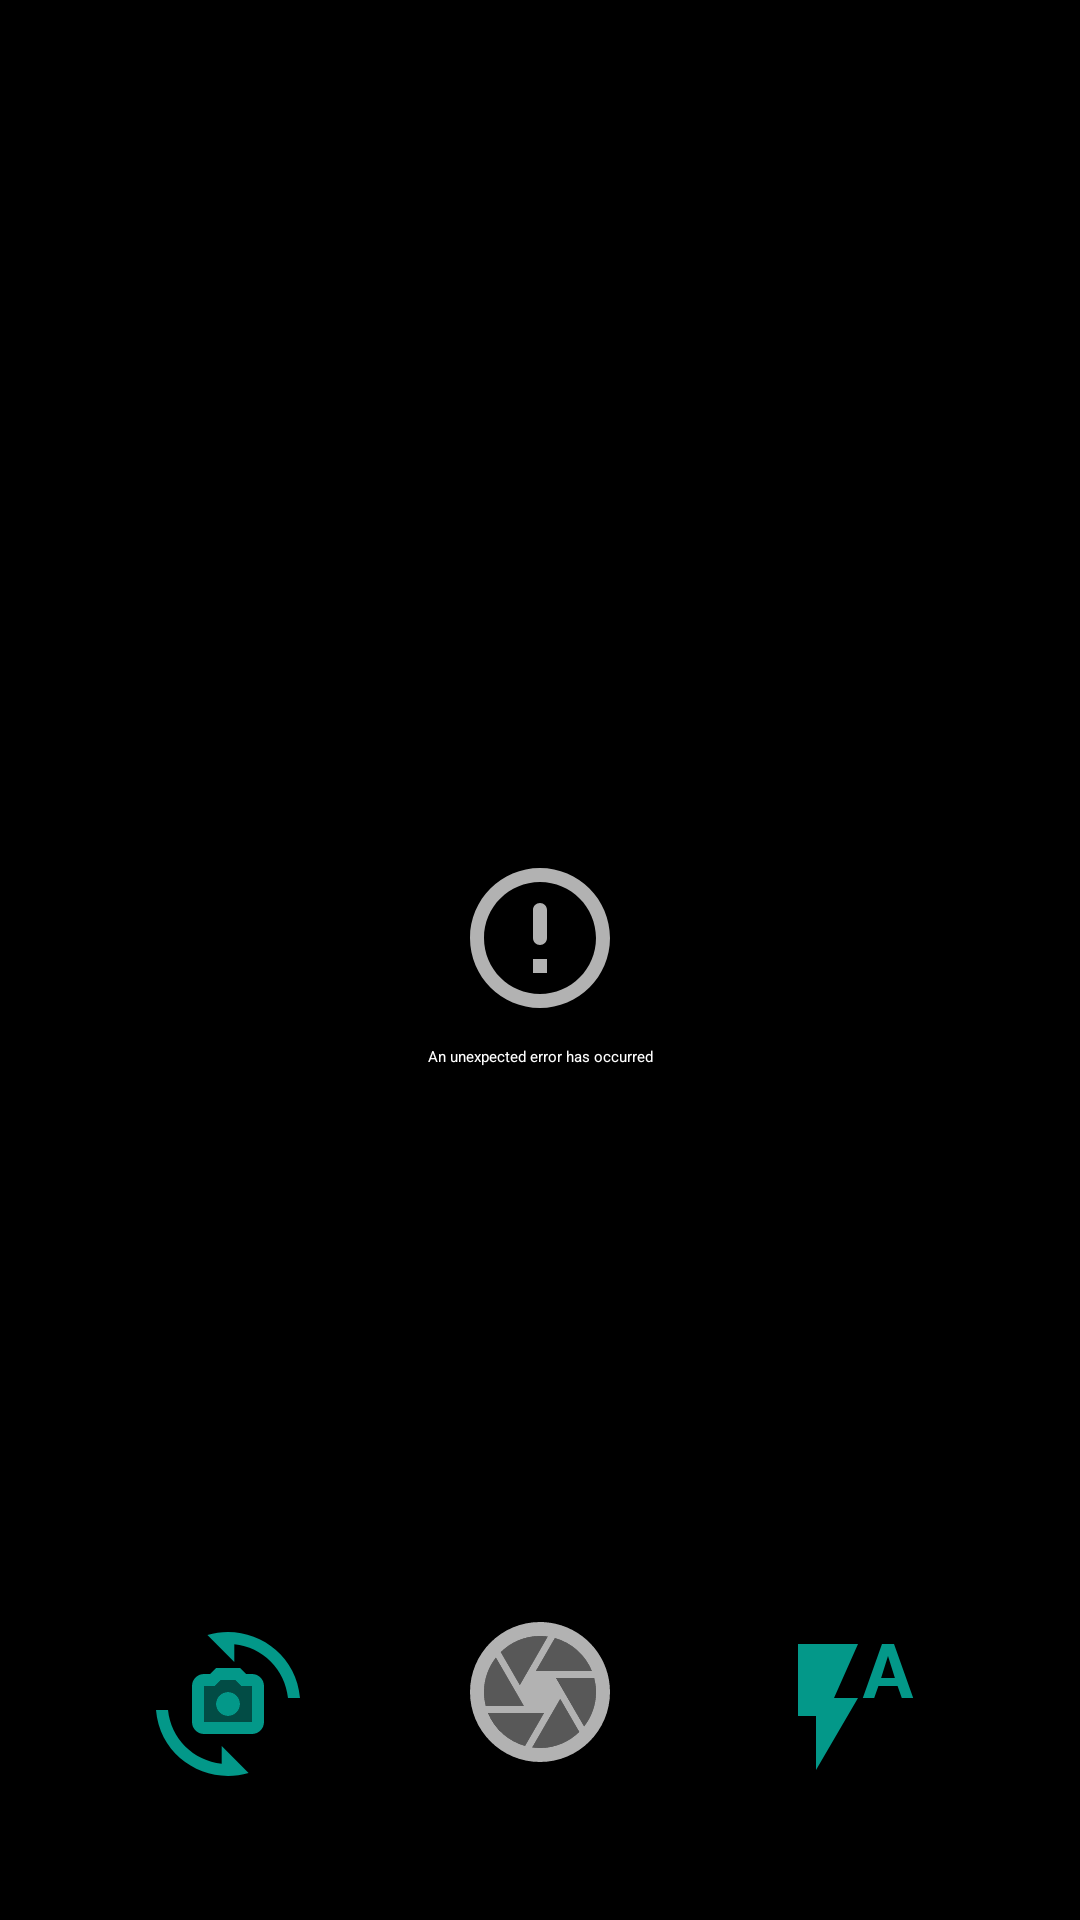

Screen size 1080 x 1920. Icon name, then its box in pixels as (x1, y1, x2, y2):
Flash on/off: (798, 1644, 913, 1770)
Flip camera: (156, 1632, 300, 1776)
Take photo: (470, 1622, 610, 1762)
